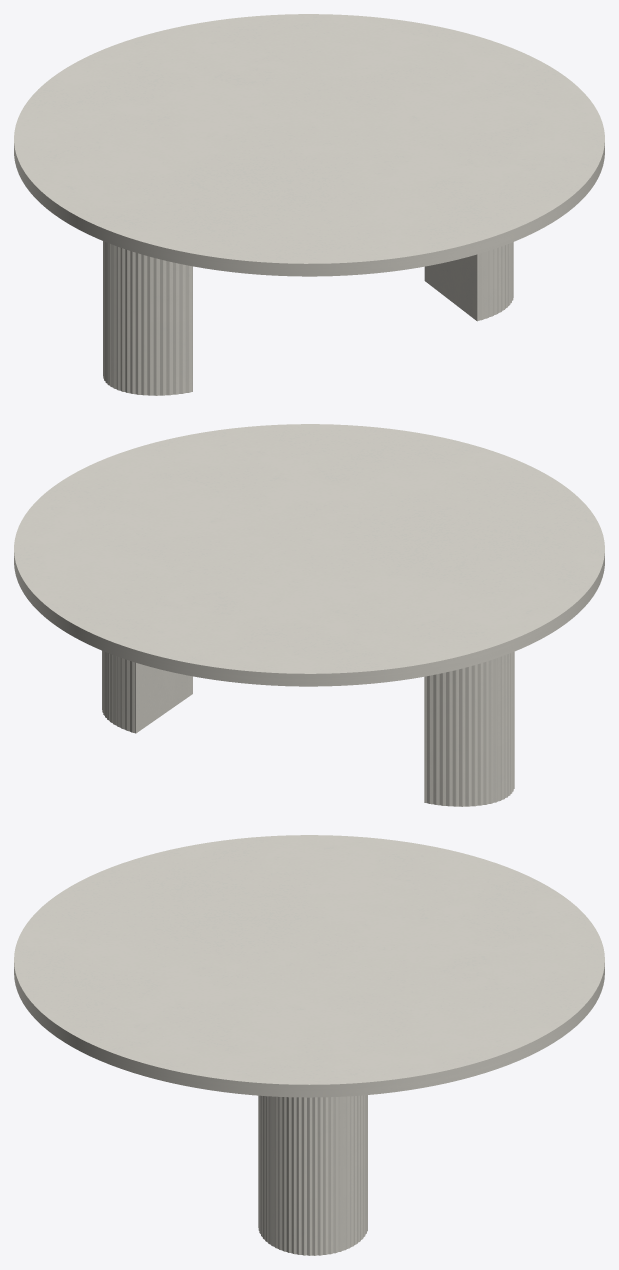
Rendered from pale_round_standard_flute.glb.
3 views of the same model, one above another, from view 1: azimuth 30°, elevation 25°; view 2: azimuth 150°, elevation 25°; view 3: azimuth 270°, elevation 25° (orthographic).
Visible parts, largest first — view 1: standard_round, flute; view 2: standard_round, flute; view 3: standard_round, flute.
Boxes of the visible parts, x1,y1,x2,y2 form: standard_round: (14,14,604,276); flute: (103,241,513,395); standard_round: (14,424,604,686); flute: (102,650,514,806); standard_round: (14,835,604,1097); flute: (258,1095,367,1255).
Size of the model in its own units: 6.75 by 2.5 by 6.75.
1 material, 1 textured.
